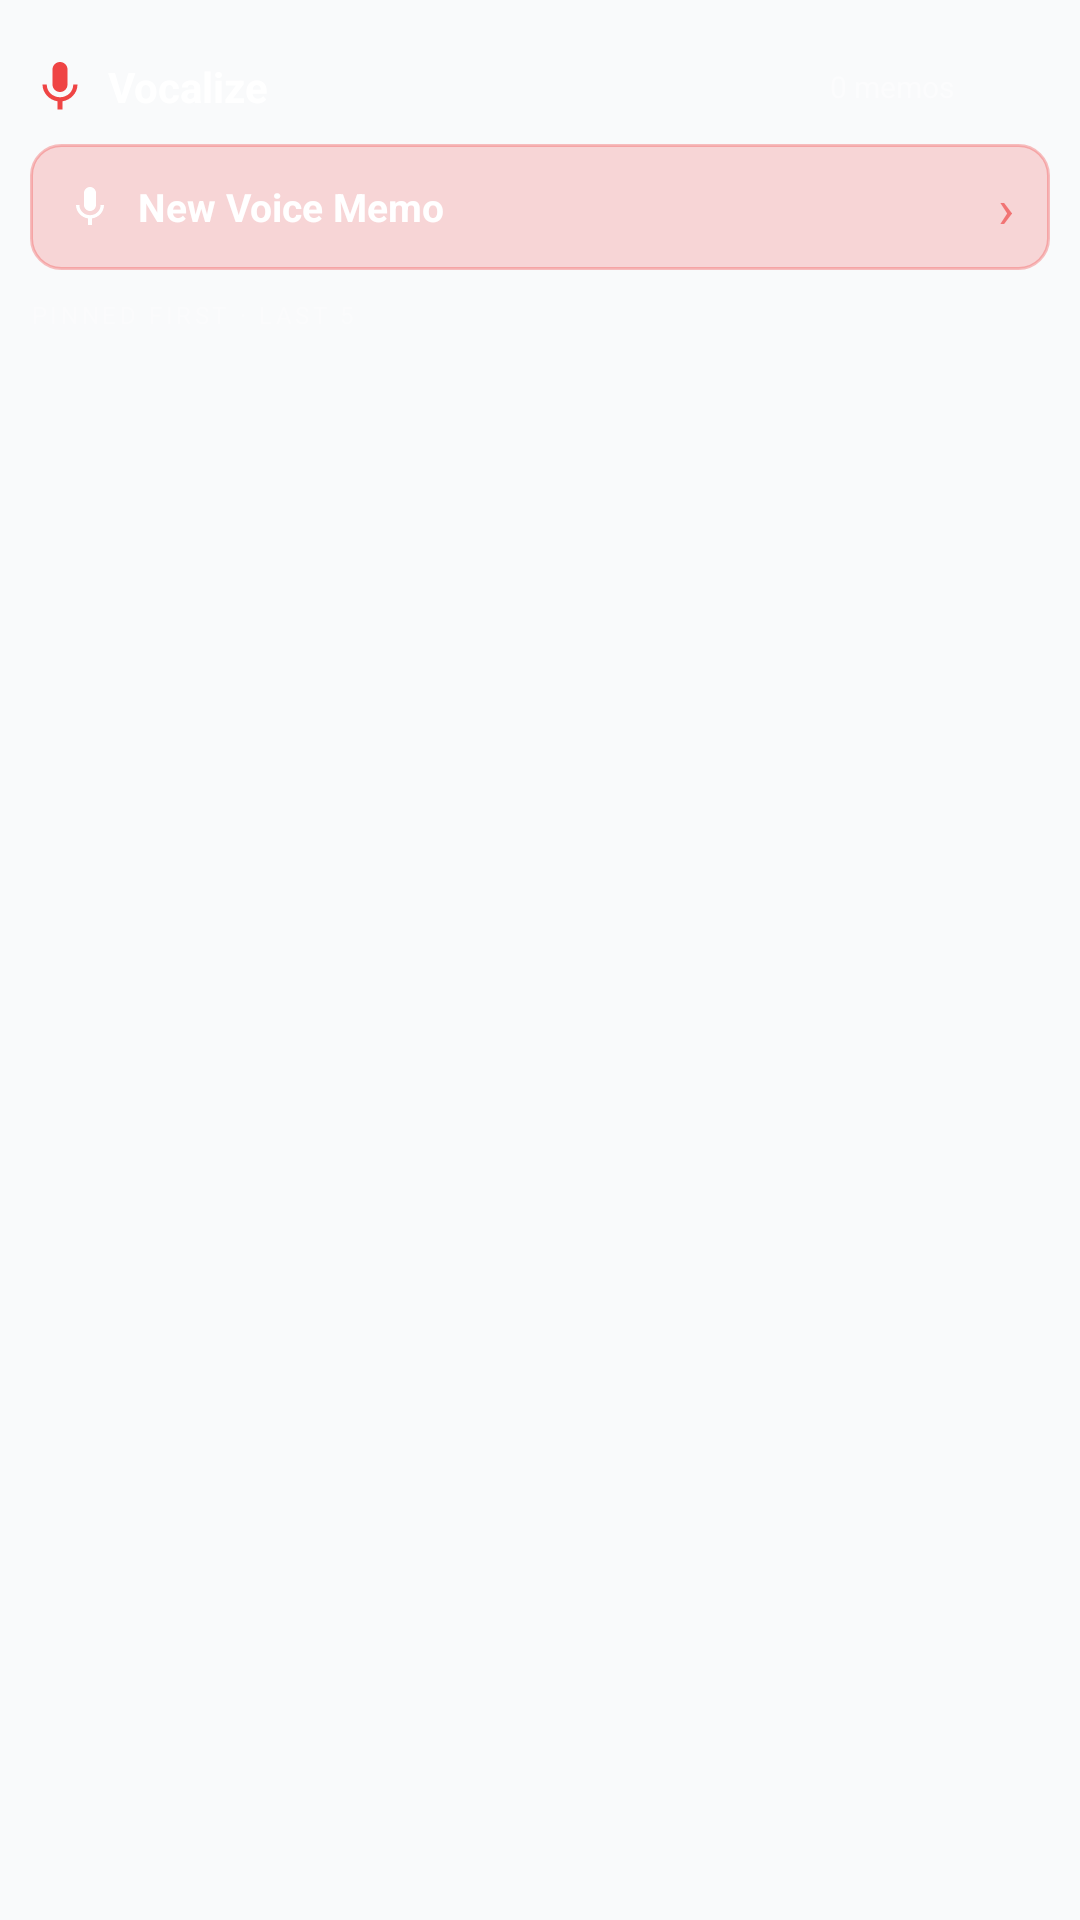

Locate icon controls on the screen. Image size 1080w x 1920h, boxes as [x1=x1, y1=y1, x2=x2, y2=y2].
mic: [x1=42, y1=62, x2=78, y2=110], [x1=76, y1=187, x2=104, y2=225]
